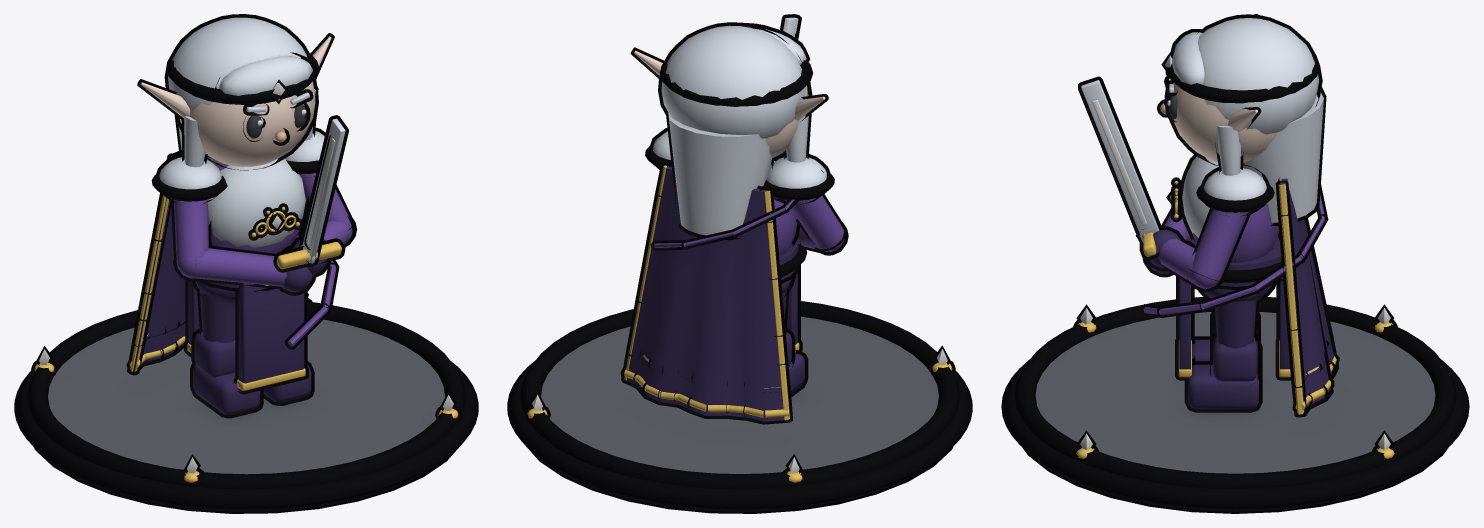
File: blade_singer_s4.fbx
The picture shows the model from 3 angles, left to right: view 1: azimuth 30°, elevation 25°; view 2: azimuth 150°, elevation 25°; view 3: azimuth 270°, elevation 25°; orthographic projection.
Visible parts, largest first — view 1: blade_singer_s4; view 2: blade_singer_s4; view 3: blade_singer_s4.
Part boxes in pixels (x1,y1,x2,y2): blade_singer_s4: (14, 14, 478, 513); blade_singer_s4: (507, 14, 972, 513); blade_singer_s4: (1001, 14, 1469, 513).
Bounding box in the file's own units: 1.58 × 1.48 × 1.58.
2 materials, 1 textured.
